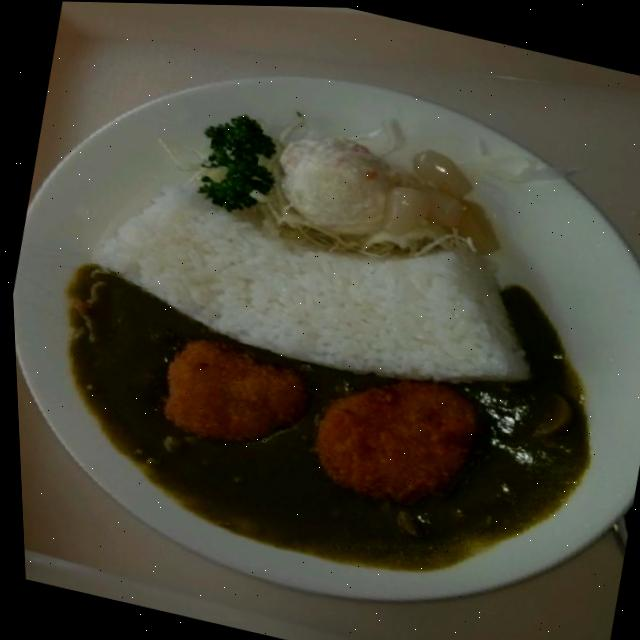牛肉菜式: (5, 135, 640, 622)
蔬菜料理: (262, 116, 418, 258), (176, 103, 300, 229)
